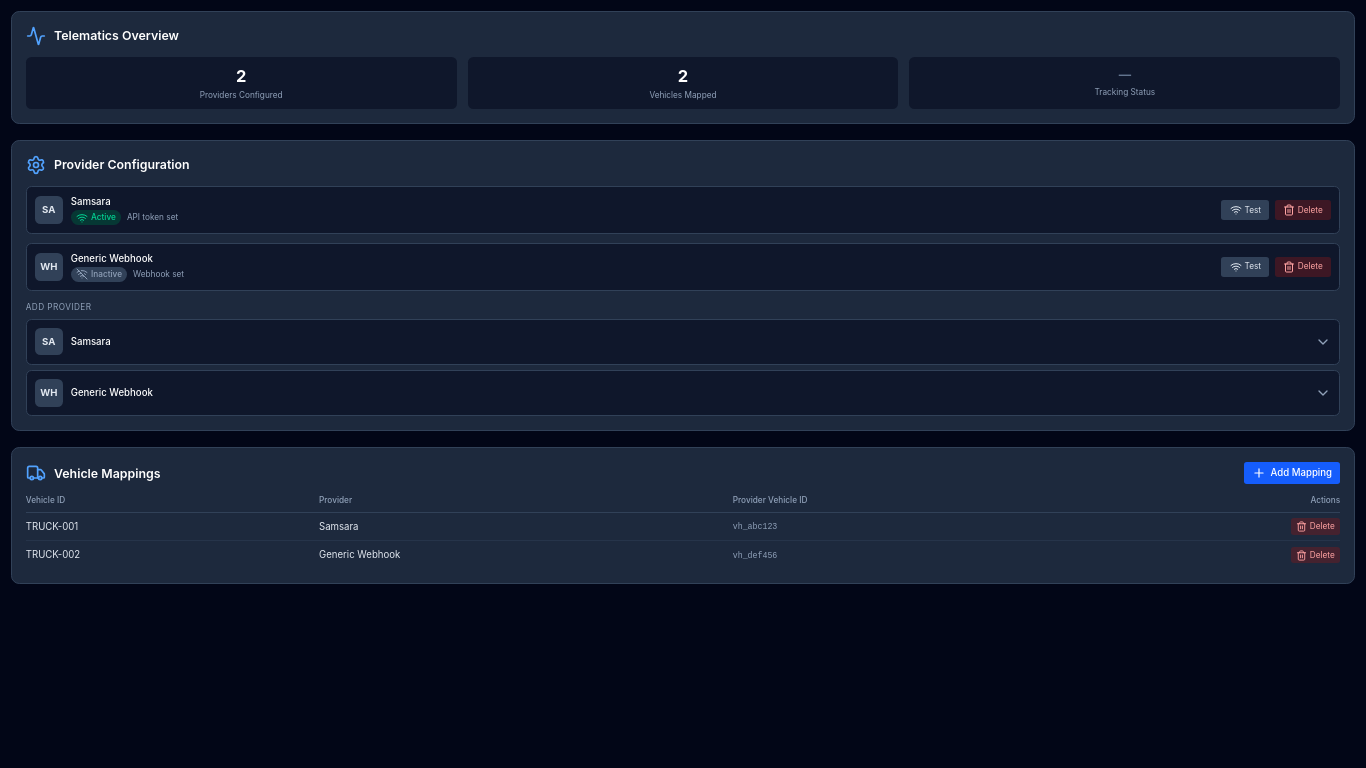
Test: TelematicsSetup › connection test results (R-TELEM-05) › shows error message after failed test
This screenshot has width=1366, height=768.
Click the button with test id "test-btn-cfg-1" at (1245, 210), box [1222, 200, 1269, 220]
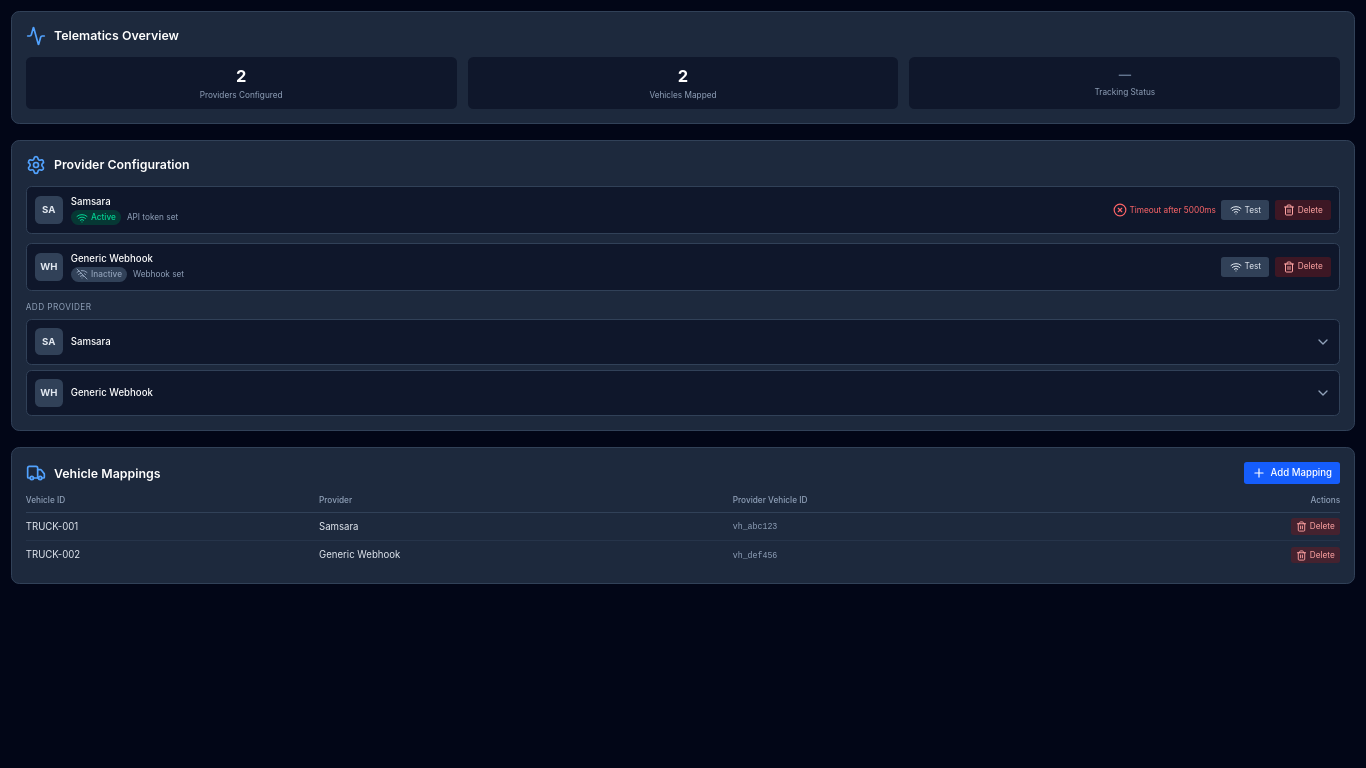
Expected: the text "Timeout after 5000ms" is shown, [1113, 203, 1216, 217]
